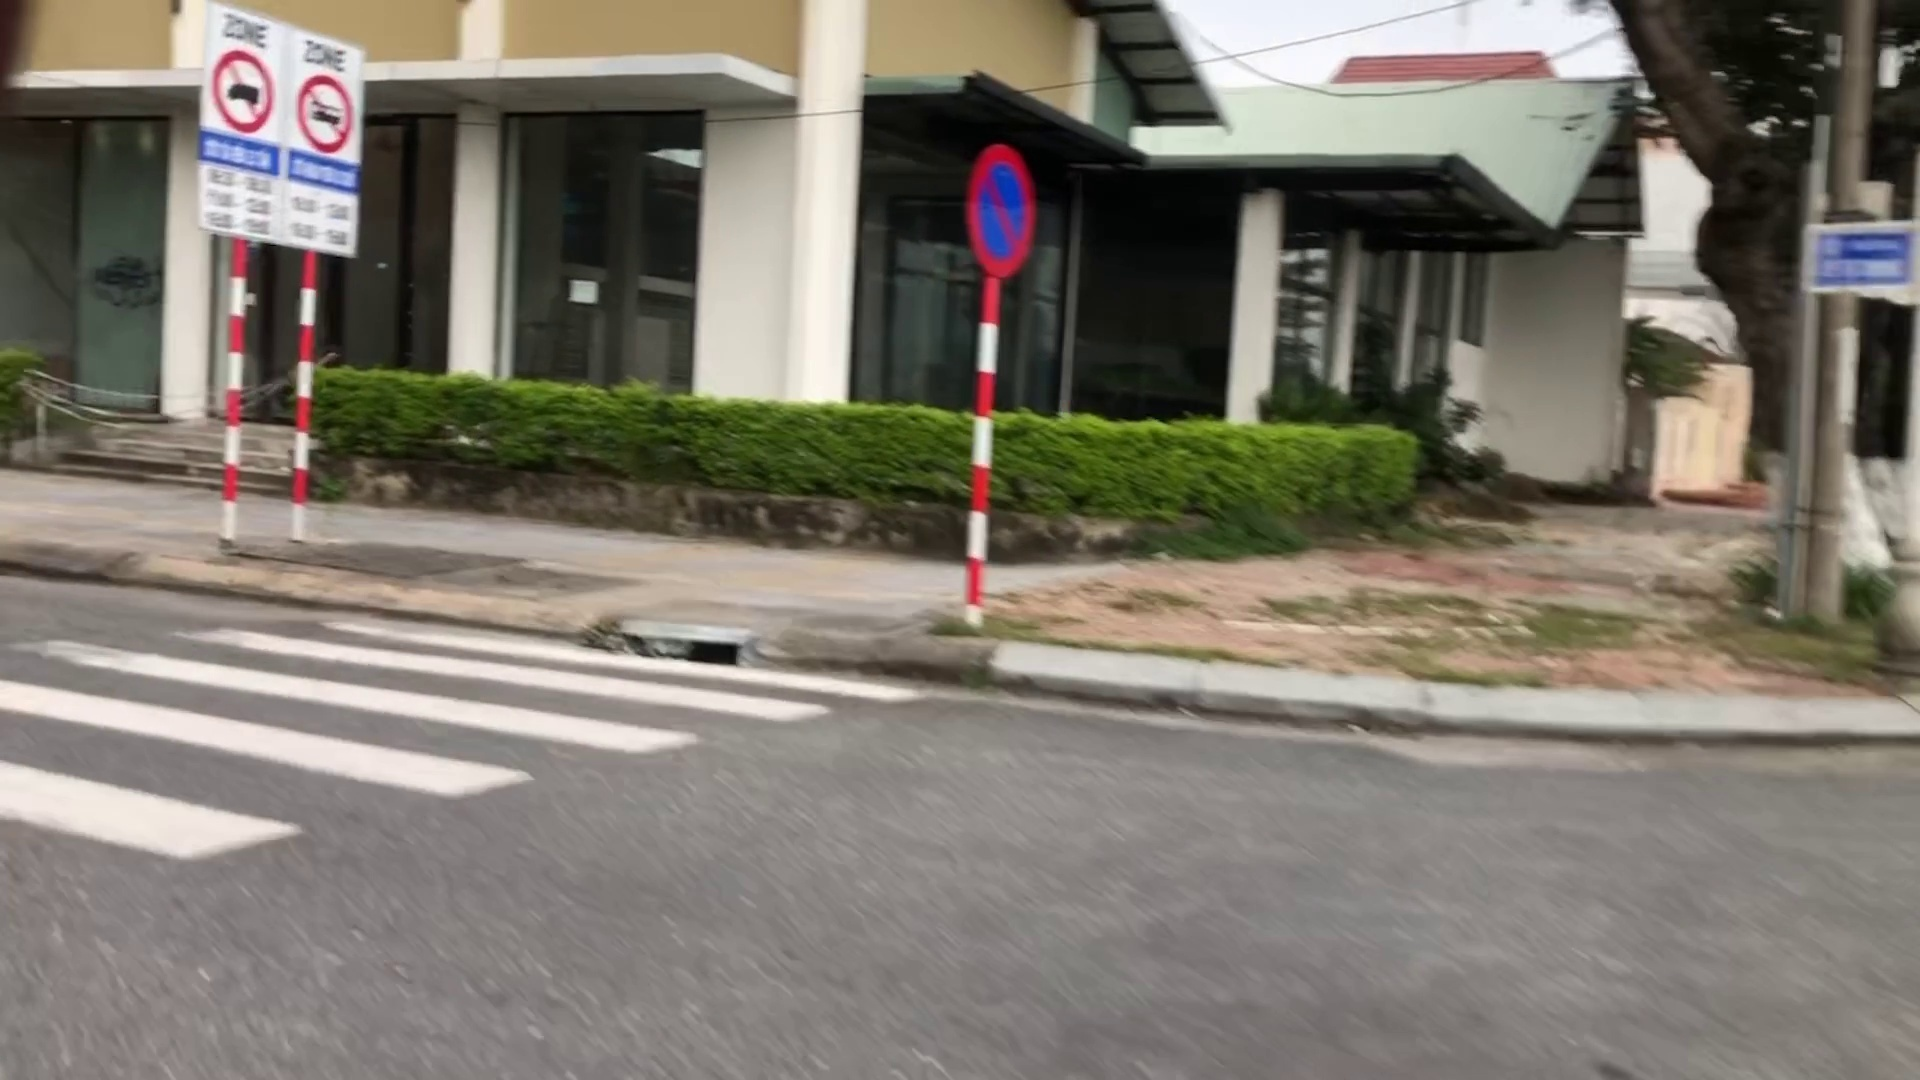Bien khac: (196, 3, 363, 258)
Cam do xe: (959, 135, 1033, 280)
